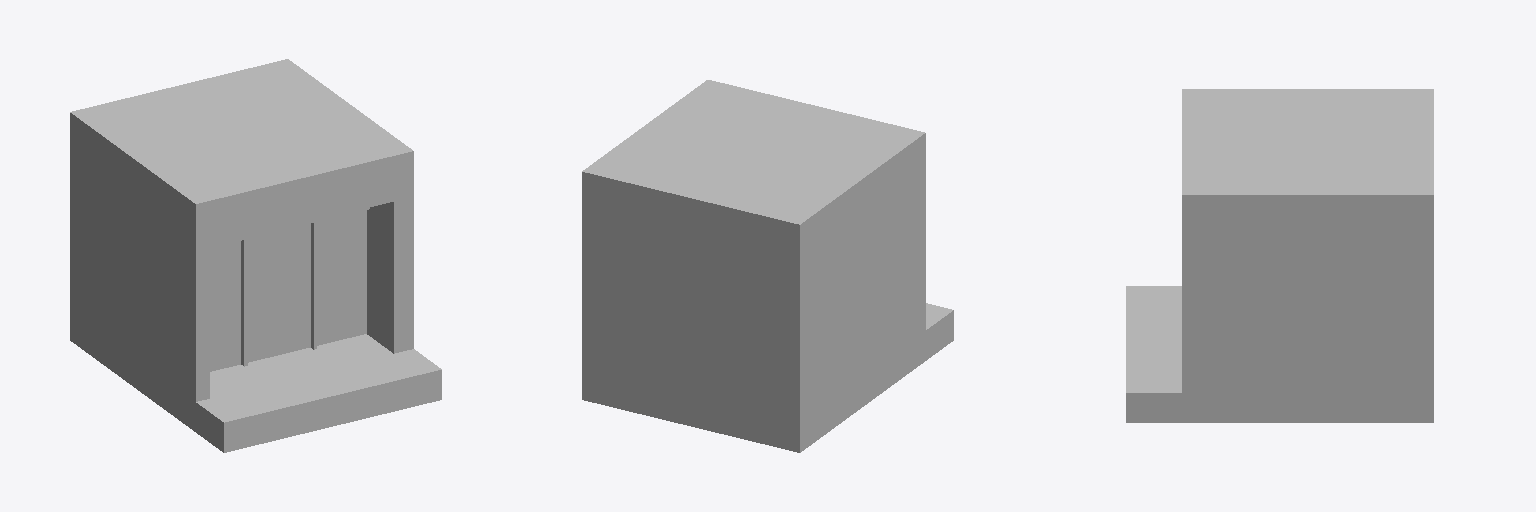
File: tsimpoukh-wall.002.obj
3 renders of one model, left to right at view 1: azimuth 30°, elevation 25°; view 2: azimuth 150°, elevation 25°; view 3: azimuth 270°, elevation 25°, orthographic.
Visible parts, largest first — view 1: tsimpoukh-wall.002; view 2: tsimpoukh-wall.002; view 3: tsimpoukh-wall.002.
Part boxes in pixels (x1,y1,x2,y2): tsimpoukh-wall.002: (70, 59, 441, 452); tsimpoukh-wall.002: (582, 80, 953, 452); tsimpoukh-wall.002: (1126, 89, 1433, 422).
Bounding box in the file's own units: 3 × 3 × 3.67.